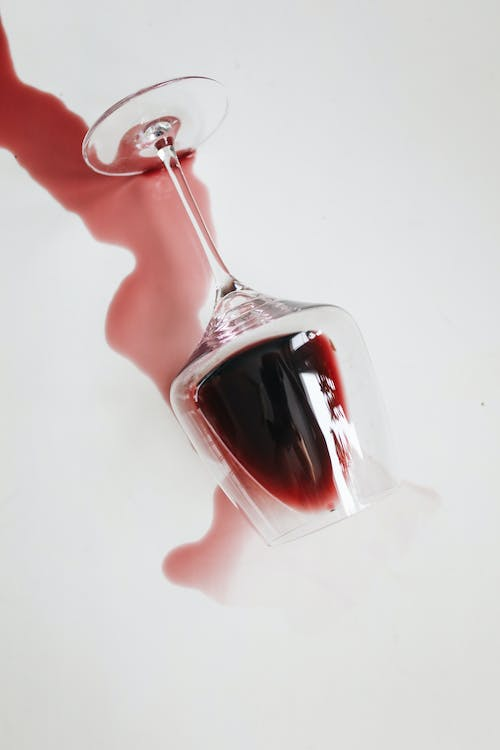alcohol: (78, 73, 402, 548)
